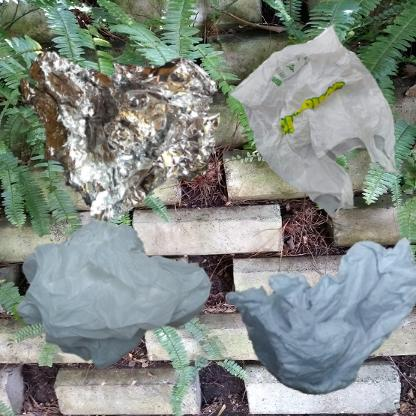aluminio: (10, 10, 252, 243)
bolsa: (213, 10, 416, 229), (10, 213, 223, 385)
papel: (213, 213, 416, 412)
